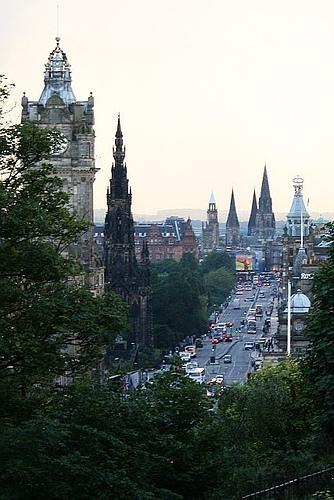bus: (247, 320, 256, 334)
car: (184, 346, 196, 358), (180, 353, 192, 362), (244, 341, 255, 350), (224, 334, 233, 342), (225, 354, 232, 364), (212, 337, 220, 344), (258, 291, 266, 298), (244, 297, 254, 302), (236, 289, 244, 295), (216, 336, 224, 342), (226, 322, 234, 326)
truck: (186, 368, 205, 384), (246, 318, 260, 331), (250, 358, 262, 370), (256, 304, 264, 316)
